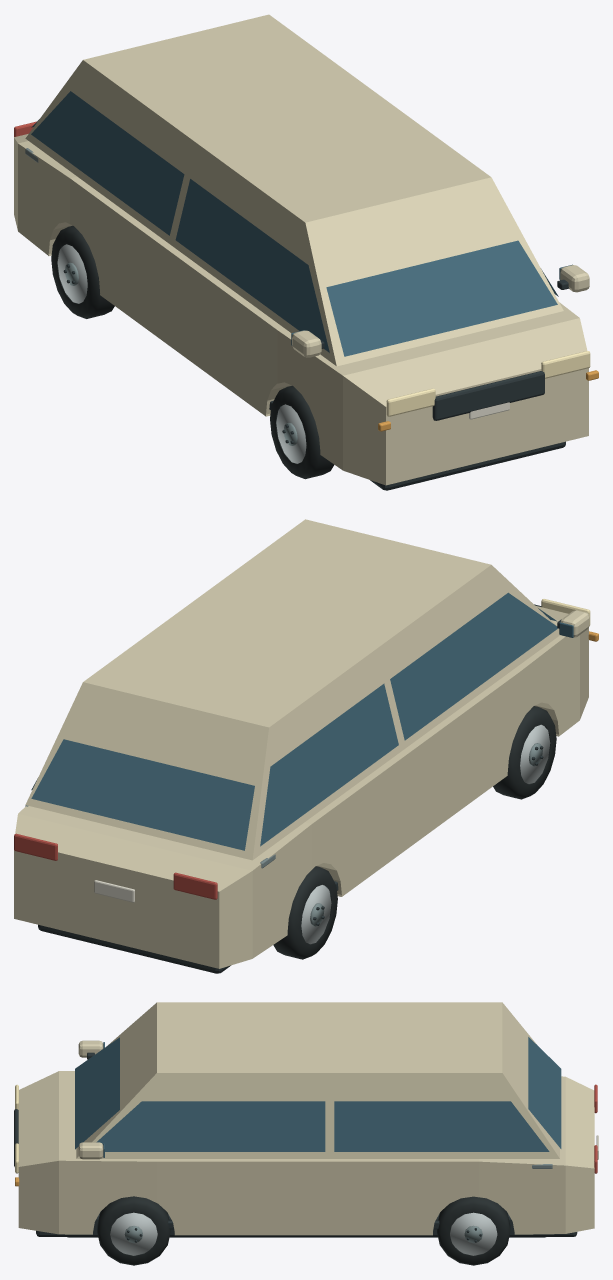
File: original-car-minivan-08.glb
The picture shows the model from 3 angles, top to bottom: view 1: azimuth 30°, elevation 25°; view 2: azimuth 150°, elevation 25°; view 3: azimuth 270°, elevation 25°; orthographic projection. The views are drawn at different scales.
Visible parts, largest first — view 1: CabinShell, BodyShell, Windscreen, WindowFront, WindowRear, Grille, Tyre_FR, Tyre_RR, Frame, Rim_FR, Rim_RR, Headlamp (+2 smaller); view 2: CabinShell, BodyShell, RearGlass, WindowFront, WindowRear, Tyre_RR, Tyre_FR, Frame, Rim_FR, Rim_RR, TailLamp, TailLamp.001; view 3: BodyShell, CabinShell, WindowFront.001, WindowRear.001, Windscreen, RearGlass, Tyre_FL, Tyre_RL, Rim_RL, Rim_FL, Frame, MirrorHousing.001.
Part boxes in pixels (x1=…): CabinShell: x1=25, y1=14, x2=563, y2=366; BodyShell: x1=14, y1=134, x2=588, y2=485; Windscreen: x1=326, y1=240, x2=557, y2=356; WindowFront: x1=175, y1=179, x2=329, y2=352; WindowRear: x1=31, y1=91, x2=184, y2=235; Grille: x1=432, y1=371, x2=544, y2=420; Tyre_FR: x1=270, y1=385, x2=334, y2=479; Tyre_RR: x1=51, y1=225, x2=114, y2=318; Frame: x1=370, y1=441, x2=565, y2=490; Rim_FR: x1=276, y1=404, x2=306, y2=463; Rim_RR: x1=57, y1=244, x2=87, y2=303; Headlamp: x1=386, y1=388, x2=435, y2=416; CabinShell: x1=25, y1=519, x2=559, y2=860; BodyShell: x1=14, y1=605, x2=588, y2=968; RearGlass: x1=31, y1=739, x2=254, y2=850; WindowFront: x1=390, y1=592, x2=557, y2=740; WindowRear: x1=260, y1=683, x2=398, y2=846; Tyre_RR: x1=273, y1=866, x2=337, y2=959; Tyre_FR: x1=493, y1=706, x2=556, y2=799; Frame: x1=38, y1=924, x2=230, y2=973; Rim_FR: x1=520, y1=724, x2=550, y2=783; Rim_RR: x1=301, y1=885, x2=331, y2=944; TailLamp: x1=173, y1=872, x2=217, y2=899; TailLamp.001: x1=14, y1=833, x2=57, y2=860; BodyShell: x1=18, y1=1071, x2=594, y2=1235; CabinShell: x1=76, y1=1002, x2=559, y2=1158; WindowFront.001: x1=96, y1=1101, x2=325, y2=1151; WindowRear.001: x1=334, y1=1101, x2=549, y2=1151; Windscreen: x1=75, y1=1037, x2=119, y2=1149; RearGlass: x1=528, y1=1037, x2=561, y2=1148; Tyre_FL: x1=97, y1=1196, x2=170, y2=1265; Tyre_RL: x1=437, y1=1196, x2=510, y2=1265; Rim_RL: x1=450, y1=1212, x2=497, y2=1255; Rim_FL: x1=110, y1=1212, x2=157, y2=1255; Frame: x1=36, y1=1210, x2=577, y2=1236; MirrorHousing.001: x1=78, y1=1142, x2=103, y2=1159.
Size of the model in its own units: 2.27 by 1.79 by 5.18.
